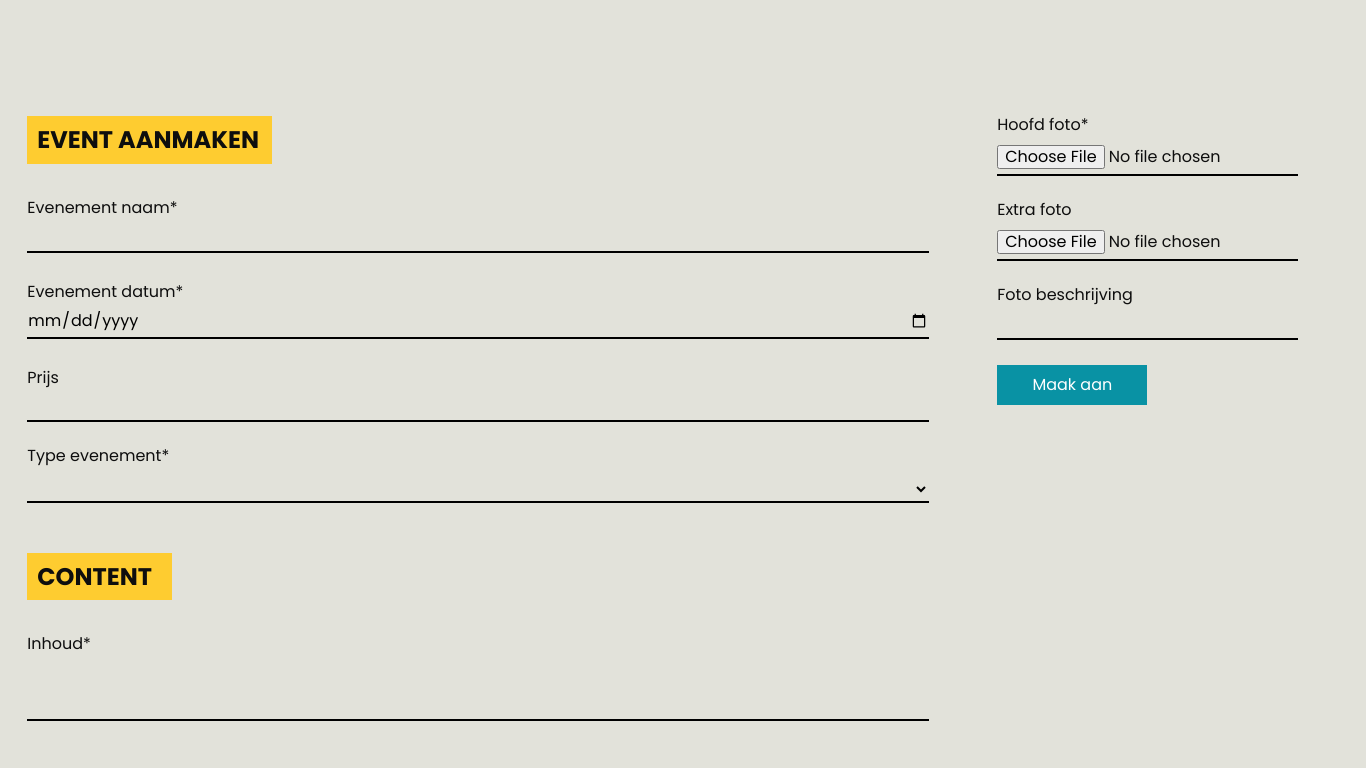
EventCreate › shows error message when form is submitted with empty fields
(page scrolled)
# triggers the submit button
Click the button with class "submit-button" at coordinates (1072, 385), box [997,365,1148,405]
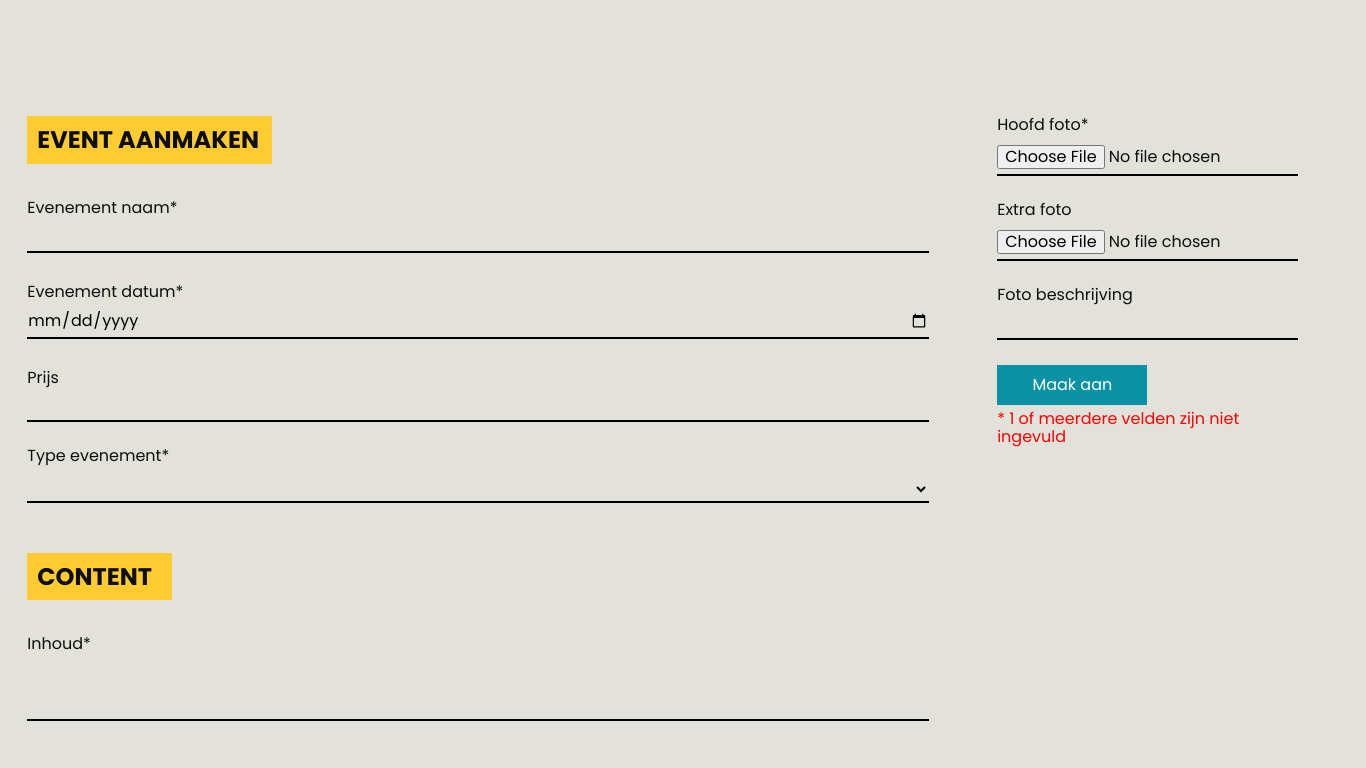
Now the text "* 1 of meerdere velden zijn niet ingevuld" is shown, box [997,407,1239,448]
